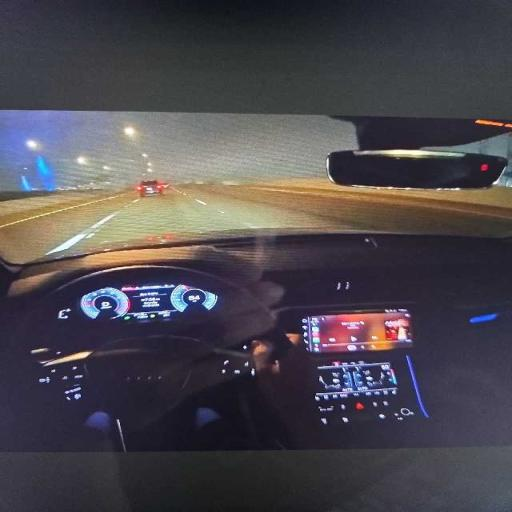car: (0, 116, 511, 493), (137, 181, 163, 197)
lane: (0, 185, 511, 261), (76, 187, 339, 250), (0, 192, 133, 262)
